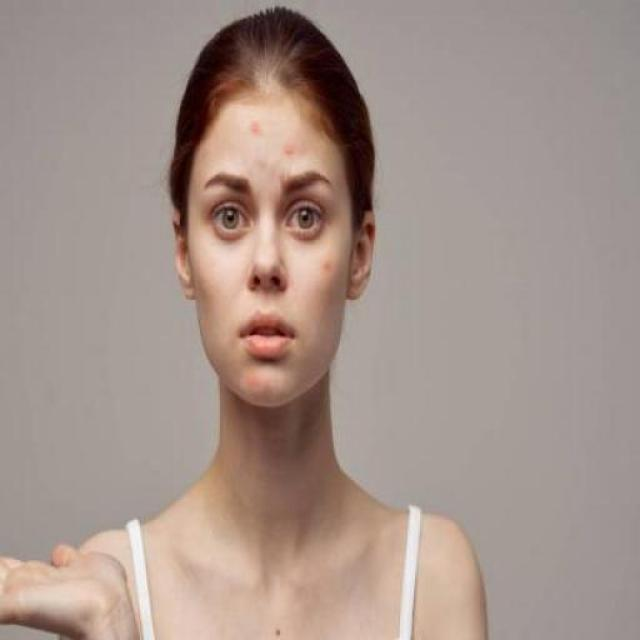Acne: (248, 119, 261, 133), (321, 262, 334, 273), (281, 146, 292, 156)
